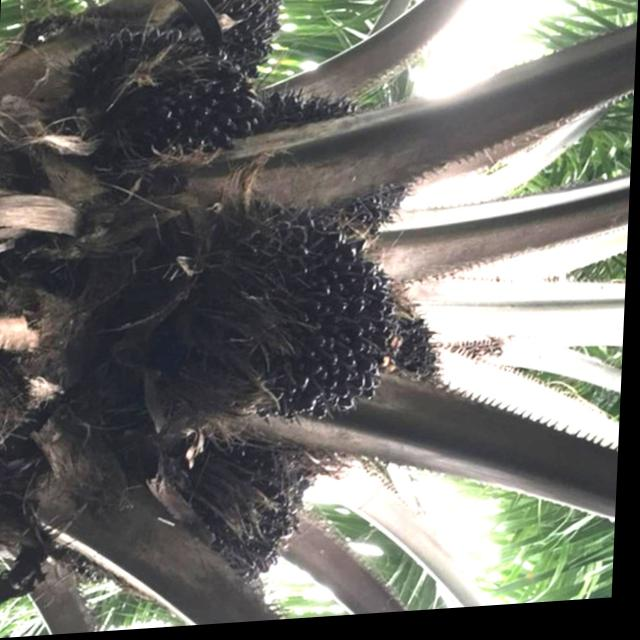ripe: (220, 213, 412, 441), (245, 83, 431, 251), (185, 440, 326, 591), (115, 58, 263, 178), (194, 0, 290, 74)
